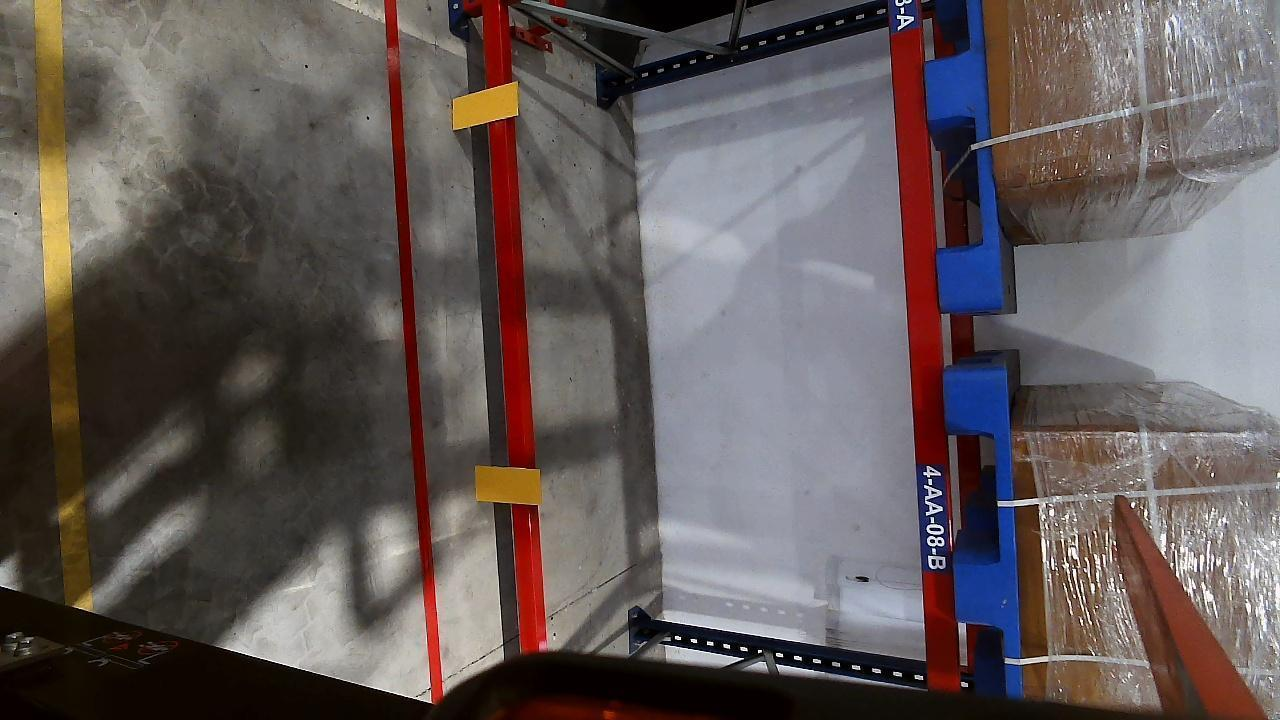red_line: (378, 0, 449, 690)
yellow_line: (40, 4, 100, 608)
